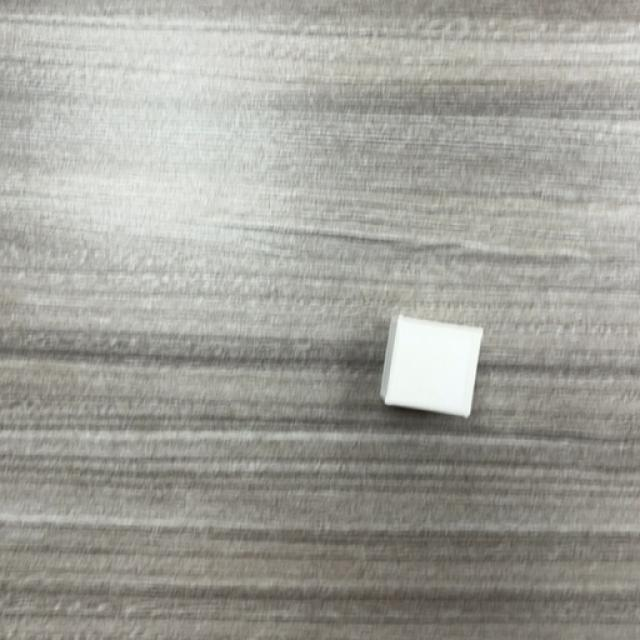Blanco: (380, 315, 484, 419)
